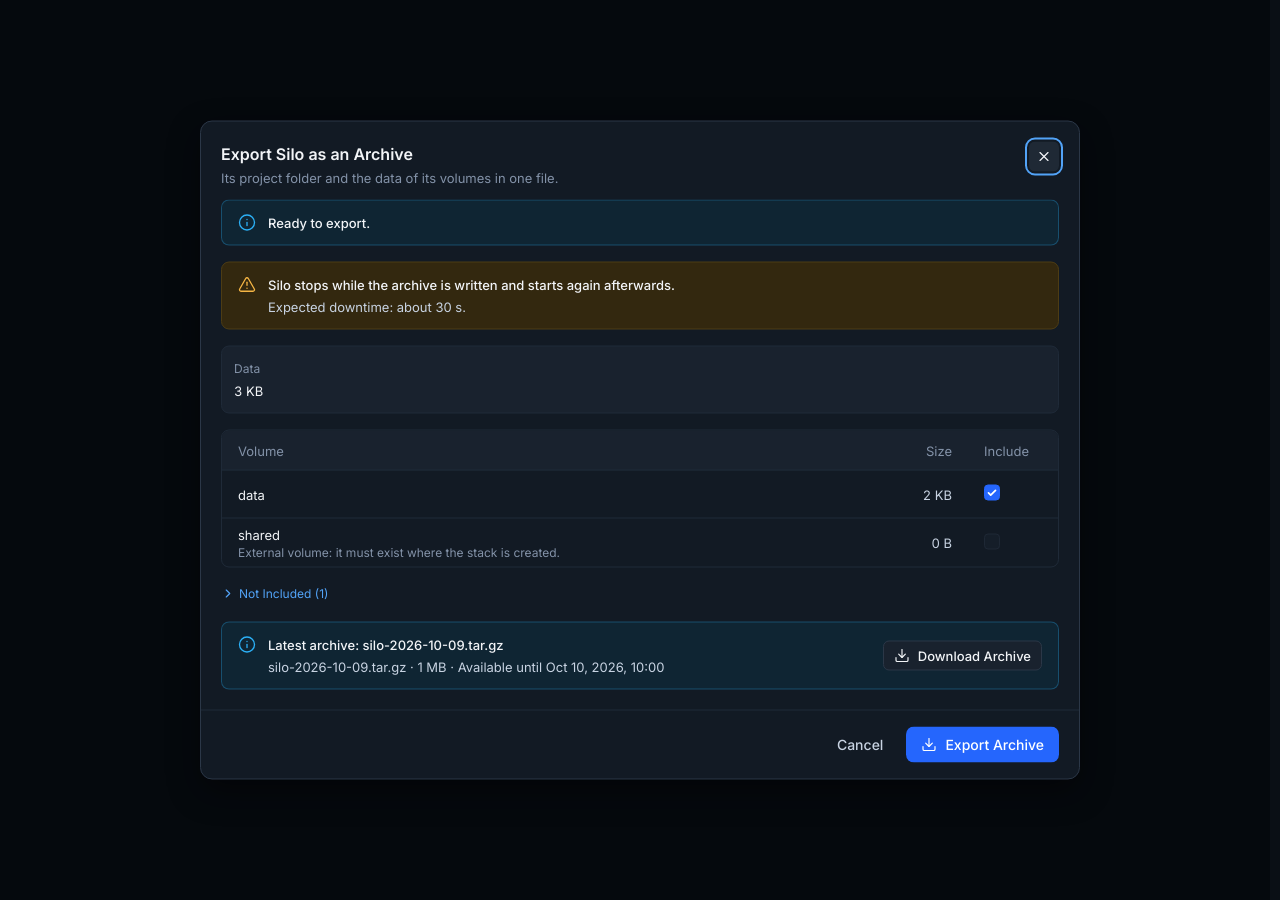
Test case: ExportArchiveDialog › offers the newest archive for download
The width and height of the screenshot is (1280, 900).
Expected: the text "Latest archive: silo-2026-10-09.tar.gz" is shown, [268,636,504,652]
Step 1. Click the button "Download Archive" → (962, 656), box [883,640,1042,670]
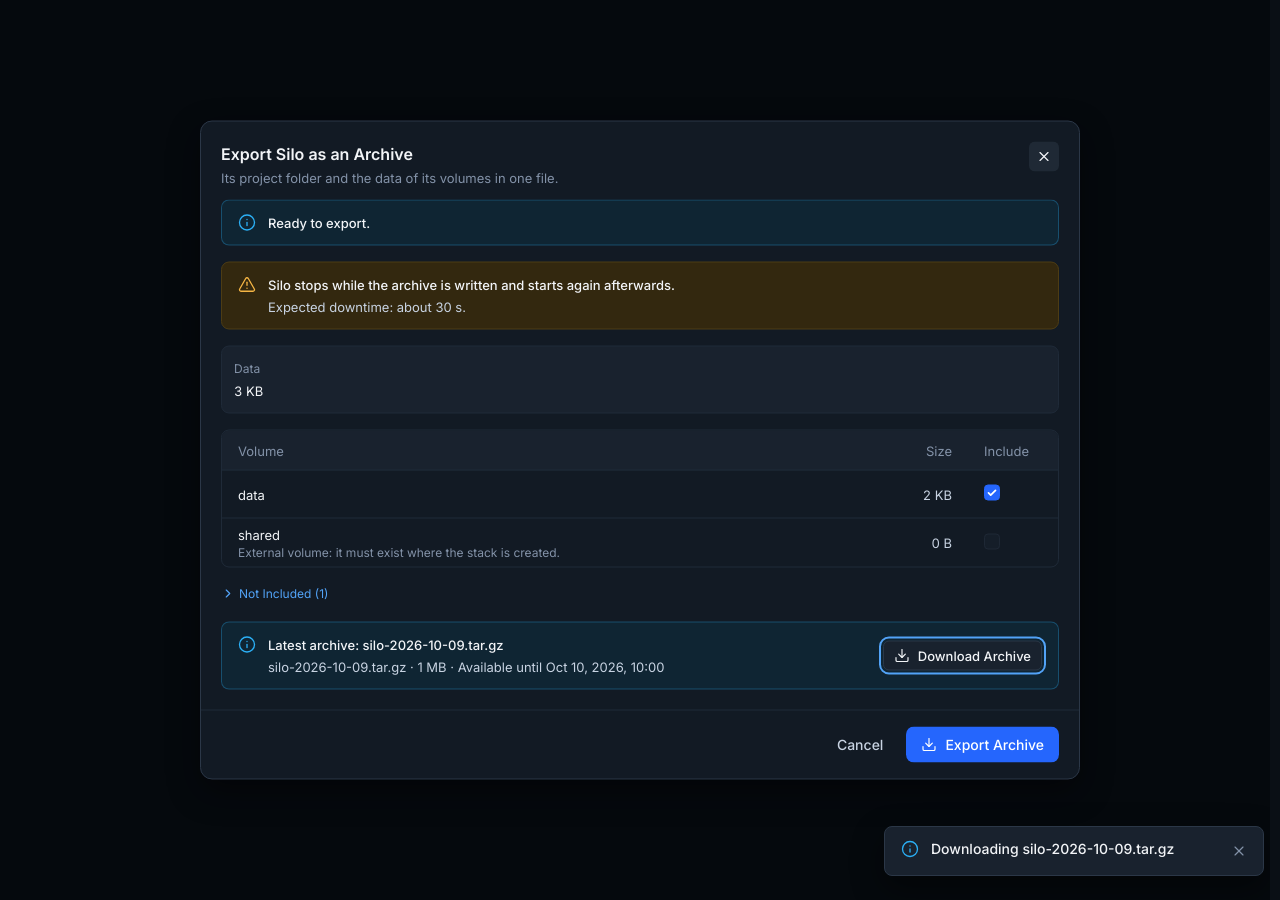
Expected: the text "Downloading silo-2026-10-09.tar.gz" is shown, [931,839,1215,859]
